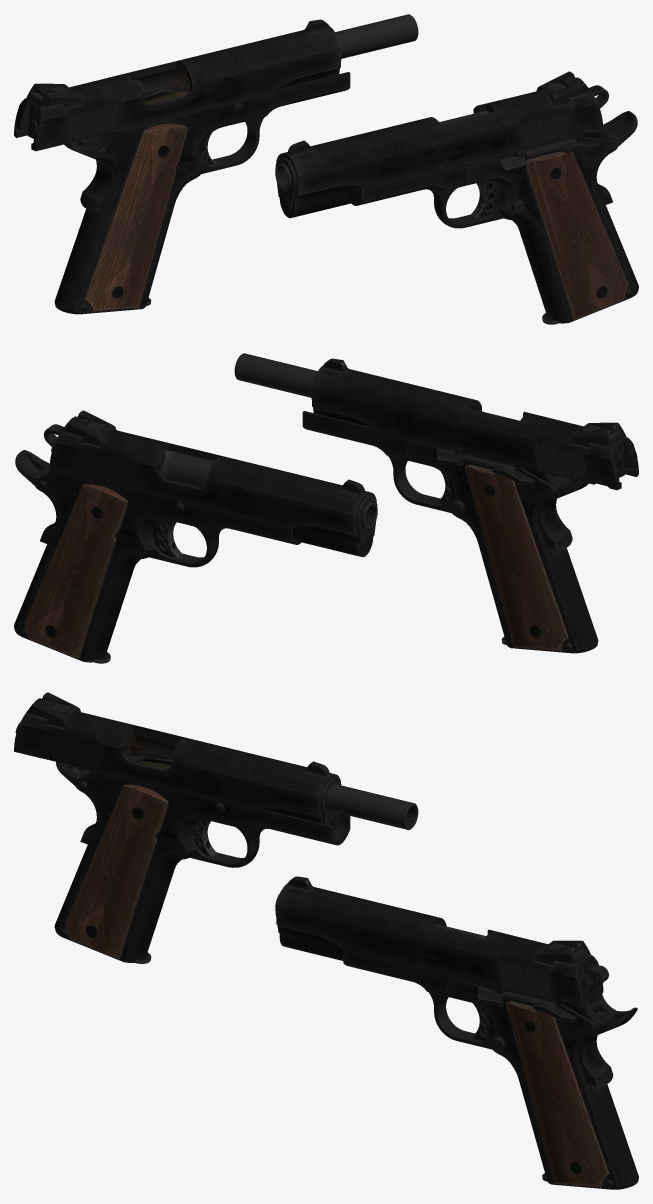
The picture shows the model from 3 angles, top to bottom: view 1: azimuth 30°, elevation 25°; view 2: azimuth 150°, elevation 25°; view 3: azimuth 330°, elevation 25°; orthographic projection.
Parts seen in each view (by area): view 1: desirefx.me_010, desirefx.me_002, desirefx.me_008, desirefx.me_013, desirefx.me_011, desirefx.me_003, desirefx.me_005, desirefx.me_006, desirefx.me_007; view 2: desirefx.me_002, desirefx.me_010, desirefx.me_008, desirefx.me_013, desirefx.me_011, desirefx.me_007, desirefx.me_016, desirefx.me_017, desirefx.me_006; view 3: desirefx.me_010, desirefx.me_002, desirefx.me_008, desirefx.me_013, desirefx.me_011, desirefx.me_005, desirefx.me_003.
Part boxes in pixels (<box>): desirefx.me_010: <box>54,72,350,314</box>; desirefx.me_002: <box>351,111,638,323</box>; desirefx.me_008: <box>275,71,603,218</box>; desirefx.me_013: <box>14,19,341,151</box>; desirefx.me_011: <box>335,14,418,58</box>; desirefx.me_003: <box>465,150,527,180</box>; desirefx.me_005: <box>559,136,616,168</box>; desirefx.me_006: <box>470,180,500,219</box>; desirefx.me_007: <box>275,111,488,190</box>; desirefx.me_002: <box>14,450,301,662</box>; desirefx.me_010: <box>302,411,598,653</box>; desirefx.me_008: <box>49,410,377,557</box>; desirefx.me_013: <box>311,358,638,490</box>; desirefx.me_011: <box>234,353,317,397</box>; desirefx.me_007: <box>162,450,377,529</box>; desirefx.me_016: <box>492,466,557,504</box>; desirefx.me_017: <box>405,442,463,465</box>; desirefx.me_006: <box>152,519,182,558</box>; desirefx.me_010: <box>54,754,350,962</box>; desirefx.me_002: <box>343,948,638,1189</box>; desirefx.me_008: <box>275,876,603,1007</box>; desirefx.me_013: <box>14,692,341,833</box>; desirefx.me_011: <box>325,784,418,829</box>; desirefx.me_005: <box>533,1003,597,1040</box>; desirefx.me_003: <box>446,978,504,1006</box>.
Size of the model in its own units: 0.8202 by 0.4566 by 0.0789.
16 materials, 16 textured.
